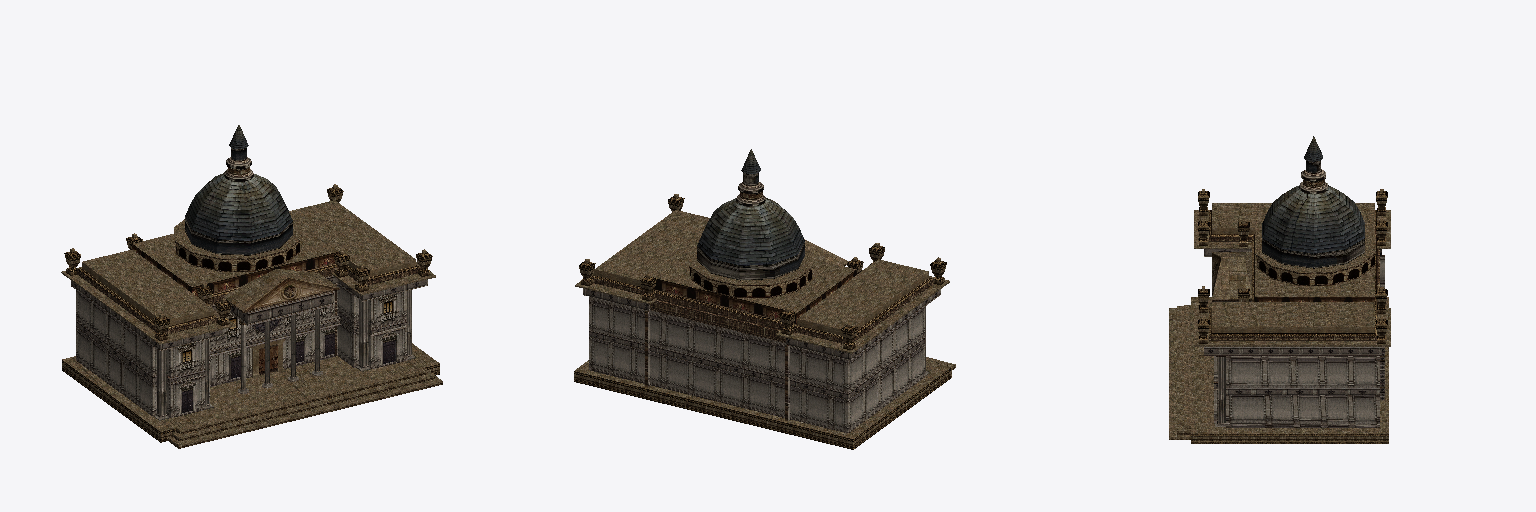
The picture shows the model from 3 angles: view 1: azimuth 30°, elevation 25°; view 2: azimuth 150°, elevation 25°; view 3: azimuth 270°, elevation 25°; orthographic projection.
Visible parts, largest first — view 1: outterWall, basic, platform3, dome, platform4, porch, platform2, platform1, decorate, pillar; view 2: outterWall, platform3, dome, basic, platform4, platform2, porch, platform1, decorate; view 3: outterWall, platform4, basic, dome, platform3, platform2, platform1, decorate, porch.
Boxes of the visible parts, <box> form: outterWall: <box>76,284,415,420</box>; basic: <box>62,339,442,448</box>; platform3: <box>61,250,235,350</box>; dome: <box>185,125,292,255</box>; platform4: <box>291,200,435,301</box>; porch: <box>208,264,339,325</box>; platform2: <box>132,211,343,297</box>; platform1: <box>174,219,301,271</box>; decorate: <box>64,184,432,340</box>; pillar: <box>238,309,322,393</box>; outterWall: <box>589,297,929,432</box>; platform3: <box>776,259,949,359</box>; dome: <box>697,149,804,280</box>; basic: <box>574,357,955,449</box>; platform4: <box>575,210,709,310</box>; platform2: <box>649,235,856,332</box>; porch: <box>650,239,848,342</box>; platform1: <box>688,244,812,297</box>; decorate: <box>579,194,946,349</box>; outterWall: <box>1214,356,1379,427</box>; platform4: <box>1194,302,1390,355</box>; basic: <box>1169,297,1388,443</box>; dome: <box>1262,136,1364,268</box>; platform3: <box>1194,203,1390,256</box>; platform2: <box>1255,223,1377,301</box>; platform1: <box>1255,230,1375,285</box>; decorate: <box>1198,189,1387,343</box>; porch: <box>1212,235,1379,307</box>.
Size of the model in its own units: 34092 by 27999 by 23390.
27 materials, 24 textured.